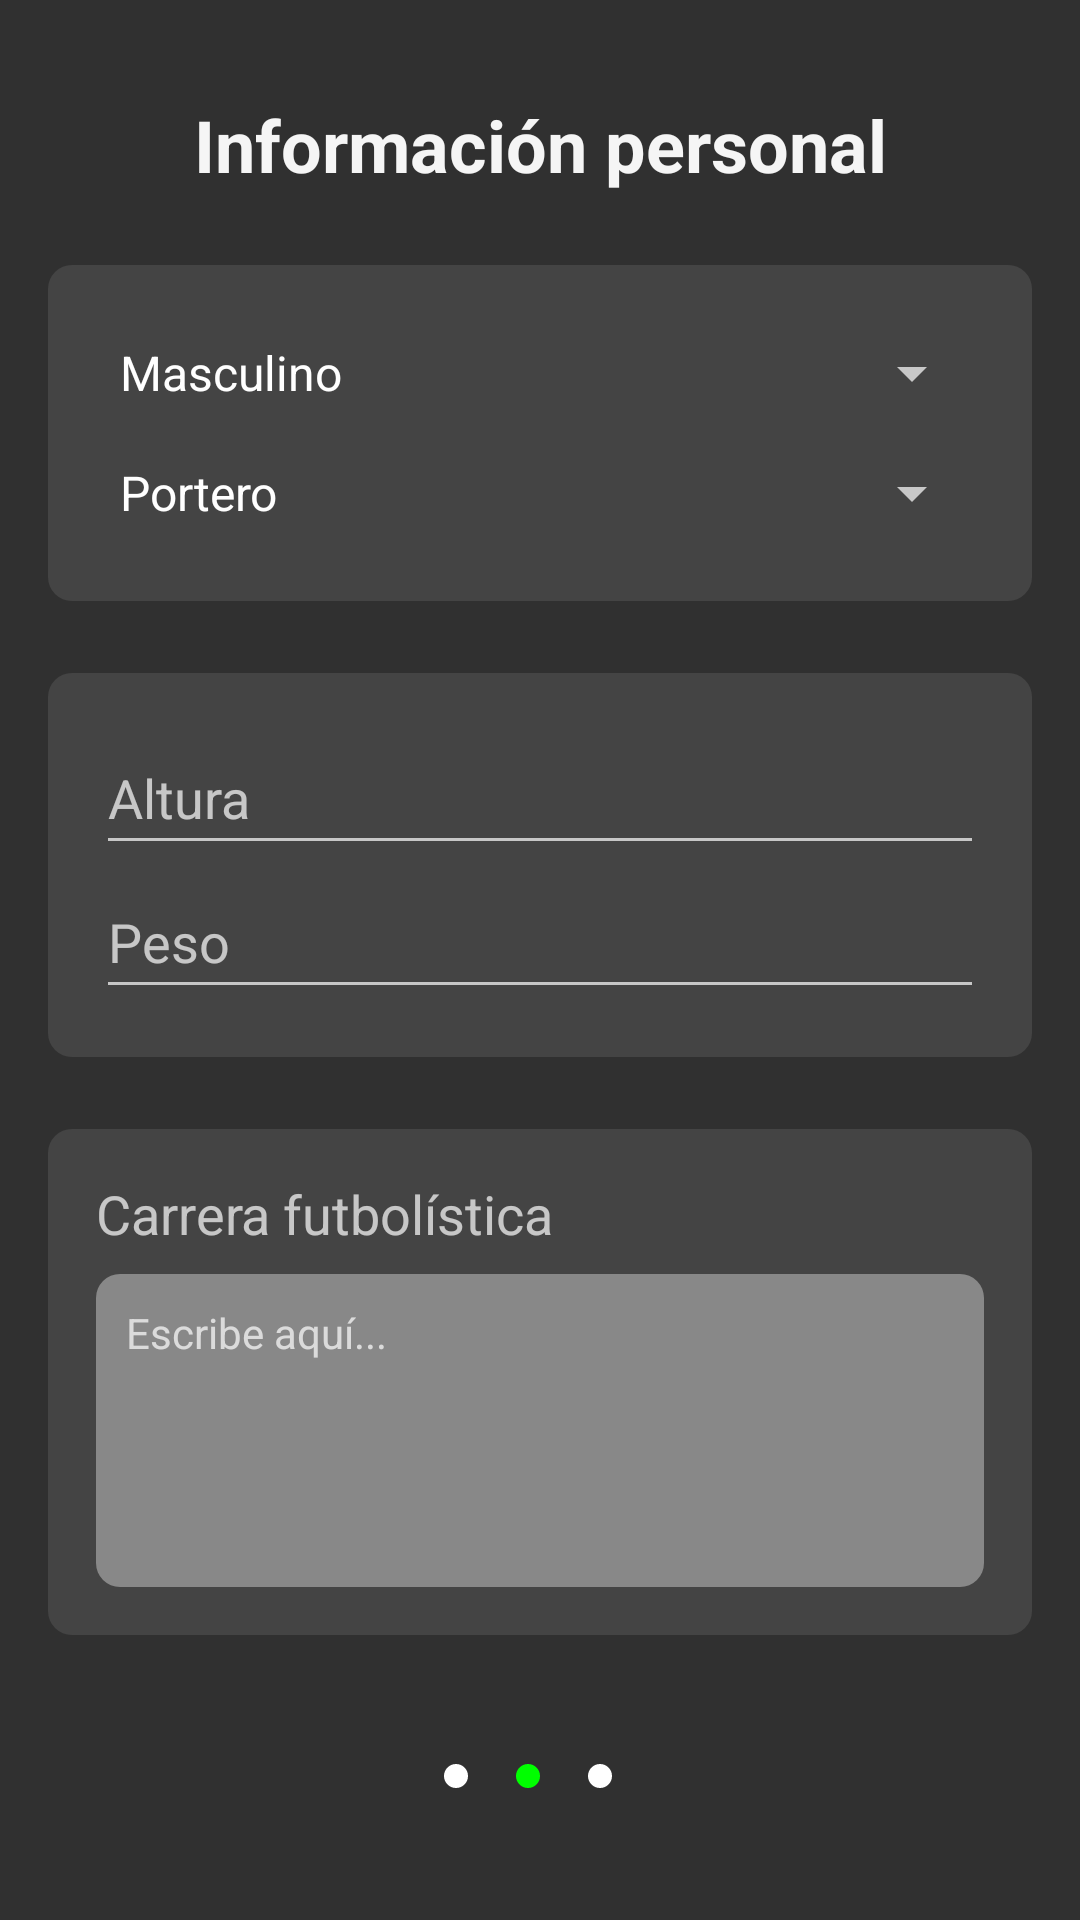

Screen size 1080px x 1920px. Icon name, then its box in pixels as (x1, y1, x2, y2):
dot: (444, 1764, 468, 1788), (516, 1764, 540, 1788), (588, 1764, 612, 1788)
